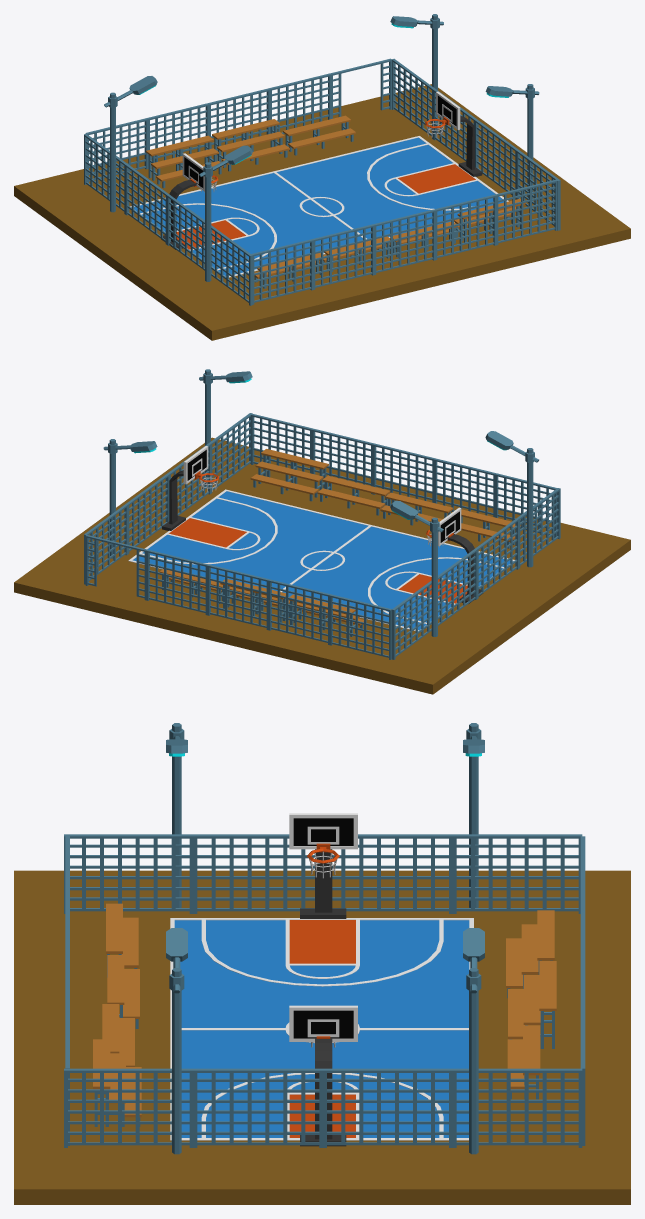
The model's file is court.glb.
3 renders of one model, top to bottom at view 1: azimuth 30°, elevation 25°; view 2: azimuth 150°, elevation 25°; view 3: azimuth 270°, elevation 25°, orthographic. The views are drawn at different scales.
Visible parts, largest first — view 1: Box14890, Plane1292, Rectangle004, Object283, Box14954, Box15535, Box15533, Box15534, Box15536, Box15541, Box14976, Box15548 (+22 smaller); view 2: Box14890, Plane1292, Rectangle004, Object283, Box15538, Box15541, Box15540, Box15539, Box15553, Box15534, Box14976, Box15533 (+22 smaller); view 3: Box14890, Plane1292, Object283, Box15543, Box15549, Box15544, Box15546, Rectangle004, Box15545, Box15542, Box15547, Box15548 (+12 smaller).
Boxes of the visible parts, <box> form: Box14890: <box>14,84,630,340</box>; Plane1292: <box>134,137,503,276</box>; Rectangle004: <box>130,136,508,277</box>; Object283: <box>161,91,482,249</box>; Box14954: <box>251,239,313,304</box>; Box15535: <box>434,194,496,259</box>; Box15533: <box>312,224,374,289</box>; Box15534: <box>373,209,435,274</box>; Box15536: <box>495,179,557,245</box>; Box15541: <box>269,73,331,134</box>; Box14976: <box>176,164,475,249</box>; Box15548: <box>125,164,169,244</box>; Box14890: <box>14,437,630,694</box>; Plane1292: <box>133,491,512,629</box>; Rectangle004: <box>128,489,514,631</box>; Object283: <box>162,446,483,603</box>; Box15538: <box>329,594,391,659</box>; Box15541: <box>146,549,208,615</box>; Box15540: <box>207,564,269,630</box>; Box15539: <box>268,579,330,644</box>; Box15553: <box>250,449,328,501</box>; Box15534: <box>373,443,434,502</box>; Box14976: <box>169,518,467,603</box>; Box15533: <box>434,458,495,517</box>; Box14890: <box>14,870,630,1204</box>; Plane1292: <box>174,920,469,1137</box>; Object283: <box>289,813,357,1146</box>; Box15543: <box>193,1068,323,1147</box>; Box15549: <box>453,834,582,913</box>; Box15544: <box>323,1068,452,1147</box>; Box15546: <box>64,834,193,913</box>; Rectangle004: <box>170,918,473,1140</box>; Box15545: <box>453,1068,582,1147</box>; Box15542: <box>64,1068,193,1147</box>; Box15547: <box>193,834,314,913</box>; Box15548: <box>332,834,452,913</box>.
Bounding box in the file's own units: 17.61 × 5.38 × 14.41.
